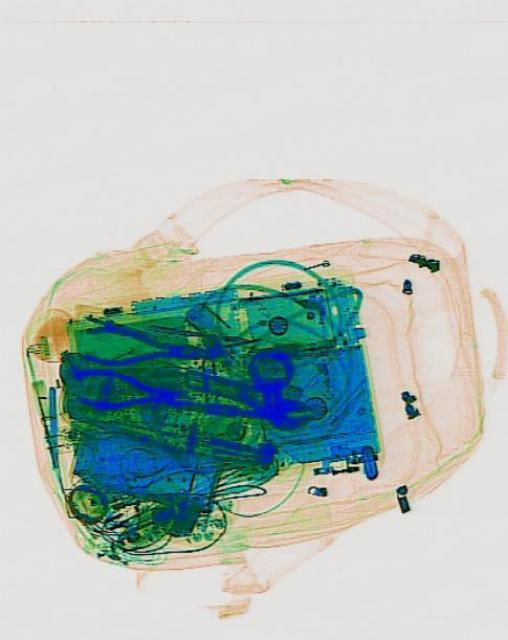Pliers: (80, 318, 223, 372), (67, 364, 188, 416)
Wrench: (215, 386, 311, 434)
